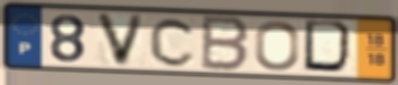8: (49, 13, 89, 64)
B: (198, 13, 252, 74)
C: (147, 15, 199, 69)
D: (301, 18, 359, 77)
O: (252, 19, 301, 72)
V: (93, 11, 148, 69)
